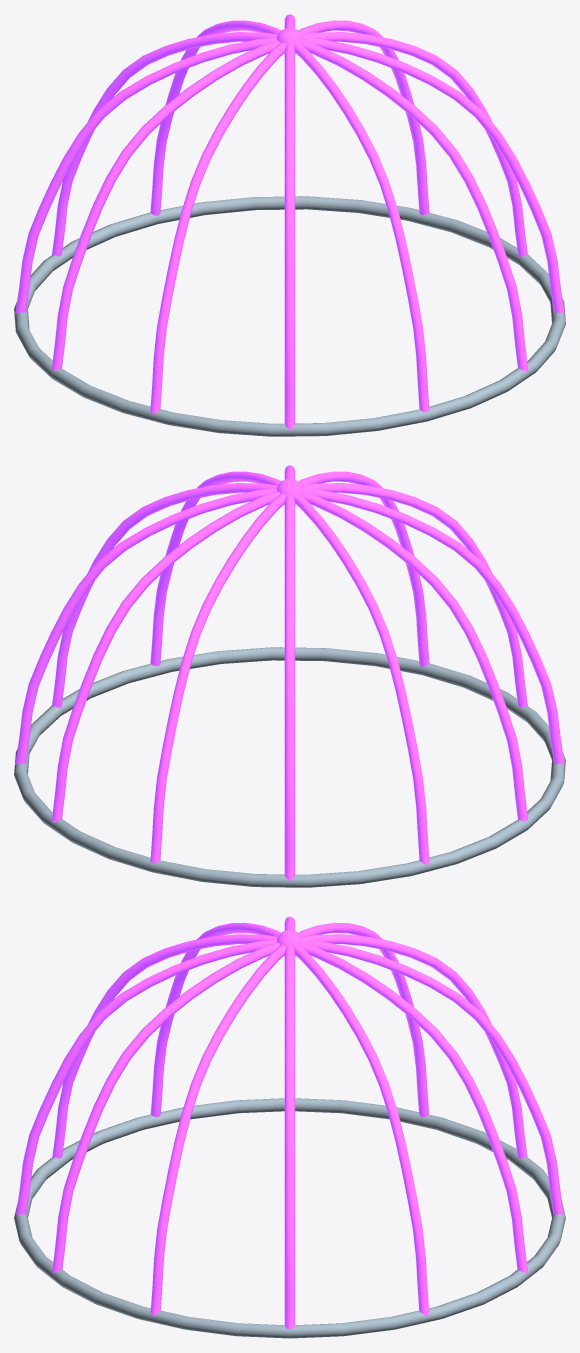
File: moonsteel-convergence-aegis-lattice-5b296afe__18222.glb
The picture shows the model from 3 angles, top to bottom: view 1: azimuth 30°, elevation 25°; view 2: azimuth 150°, elevation 25°; view 3: azimuth 270°, elevation 25°; orthographic projection.
Visible parts, largest first — view 1: aegis-lattice; view 2: aegis-lattice; view 3: aegis-lattice.
Boxes of the visible parts, x1,y1,x2,y2 form: aegis-lattice: [14, 14, 565, 436]; aegis-lattice: [14, 465, 565, 887]; aegis-lattice: [14, 916, 565, 1338].
Bounding box in the file's own units: 2.77 × 1.62 × 2.77.
